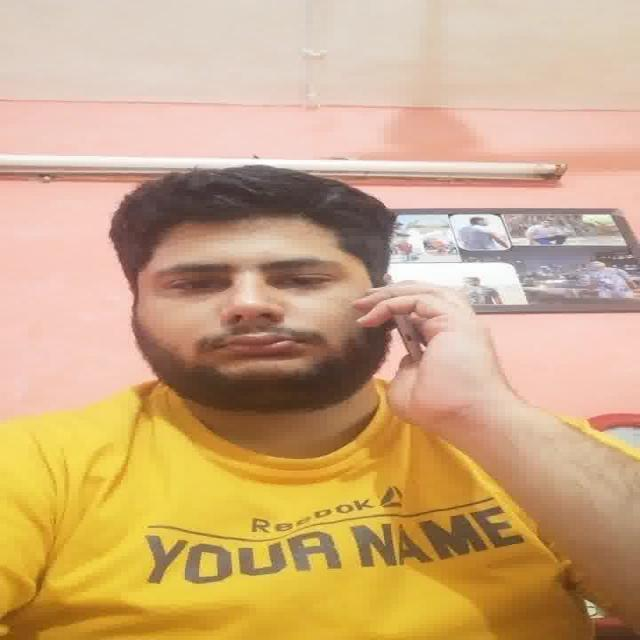Phone: (394, 306, 424, 362)
